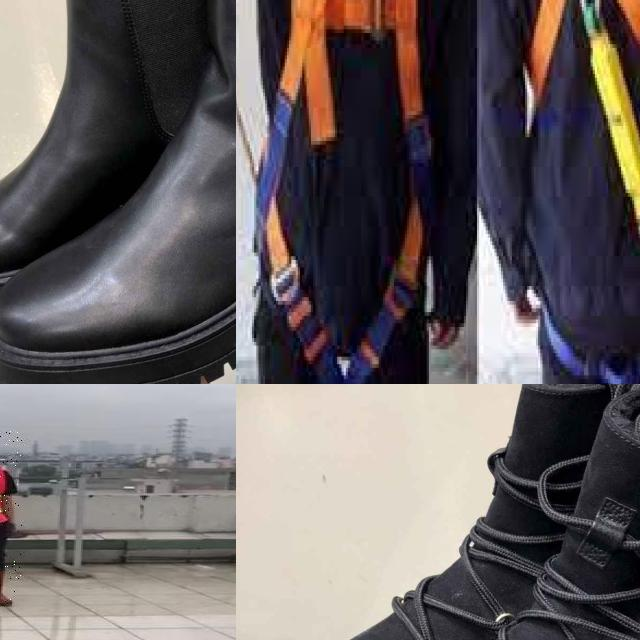Harness: (251, 0, 433, 384), (528, 0, 640, 384)
Sandals: (0, 0, 236, 384), (289, 384, 640, 640)
boots: (0, 570, 17, 607)
person: (0, 431, 22, 610)
